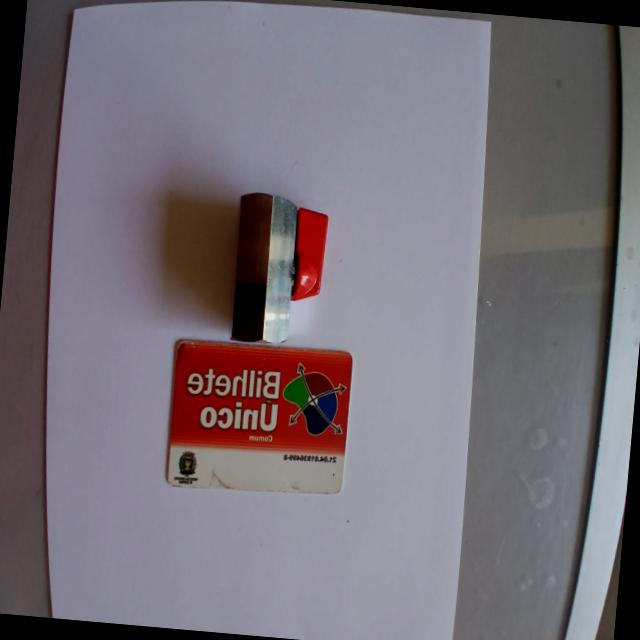cartao: (166, 338, 353, 498)
rosca_interna: (227, 190, 329, 349)
